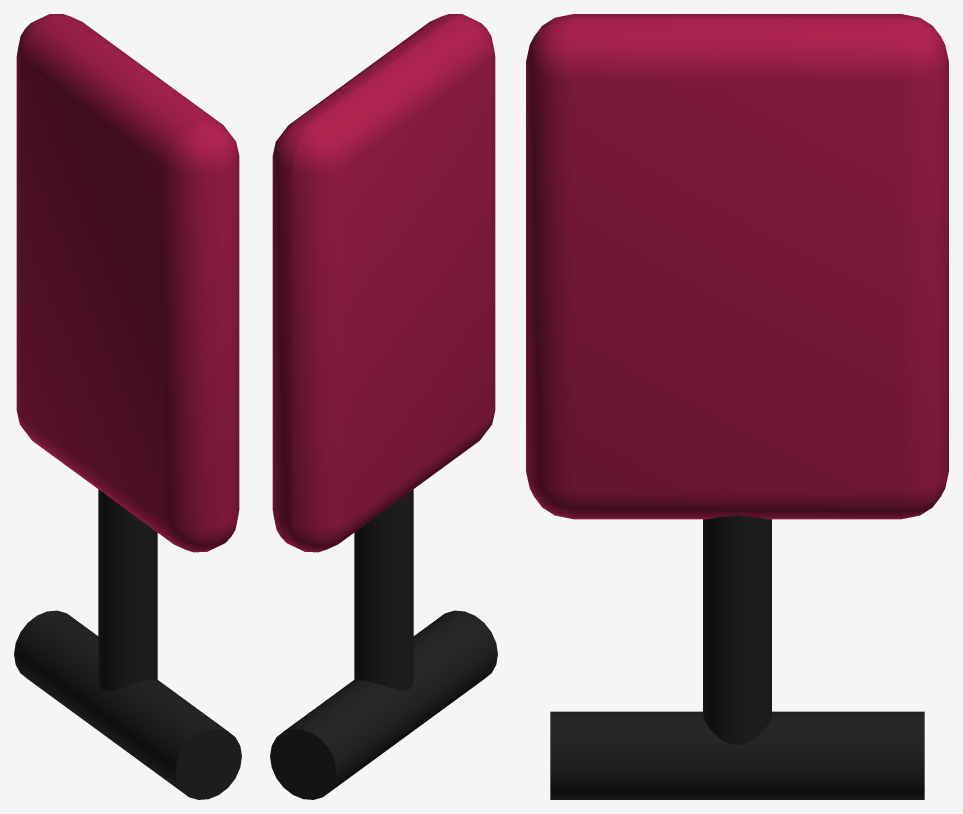
3 renders of one model, left to right at view 1: azimuth 30°, elevation 25°; view 2: azimuth 150°, elevation 25°; view 3: azimuth 270°, elevation 25°, orthographic. The views are drawn at different scales.
Parts seen in each view (by area): view 1: Plate, Plate_stand; view 2: Plate, Plate_stand; view 3: Plate, Plate_stand.
Part boxes in pixels (left/top/right/bottom): Plate: left=16, top=14, right=239, bottom=552; Plate_stand: left=14, top=489, right=241, bottom=799; Plate: left=272, top=14, right=495, bottom=552; Plate_stand: left=270, top=489, right=497, bottom=799; Plate: left=526, top=14, right=948, bottom=519; Plate_stand: left=550, top=515, right=924, bottom=799.
Size of the model in its own units: 0.2908 by 2.64 by 1.3.
